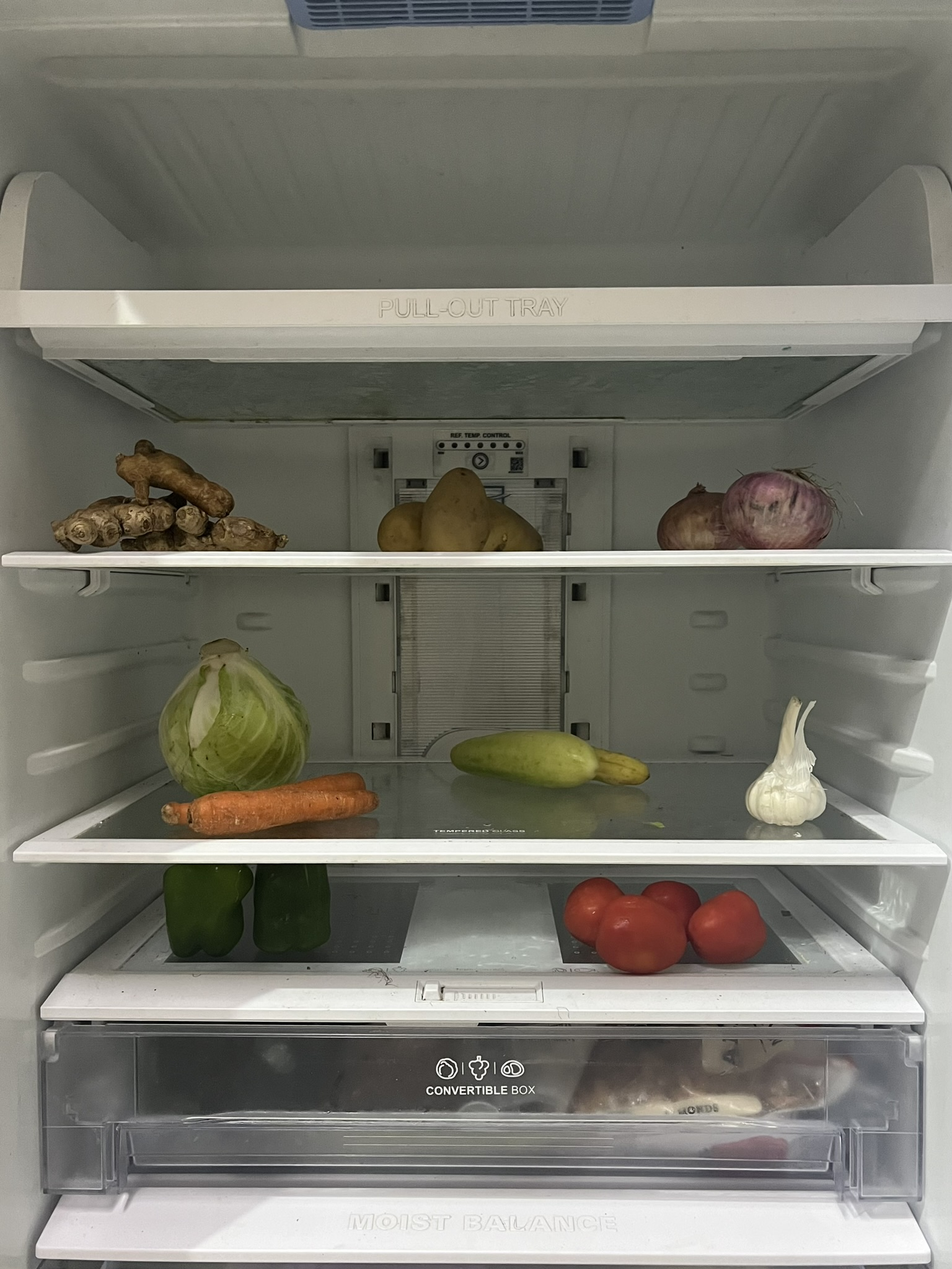capsicum: (163, 863, 331, 957)
carrots: (162, 770, 380, 837)
cucumber: (448, 724, 653, 792)
garlic: (746, 694, 828, 828)
ginger: (50, 436, 286, 552)
lettuce: (161, 637, 313, 796)
onion: (655, 467, 837, 548)
potato: (376, 465, 549, 550)
tomato: (564, 876, 764, 975)
